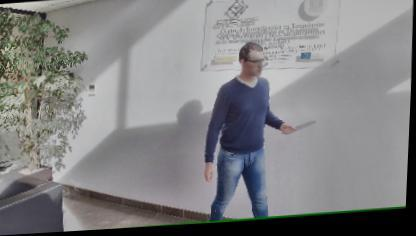knife: (280, 119, 321, 137)
